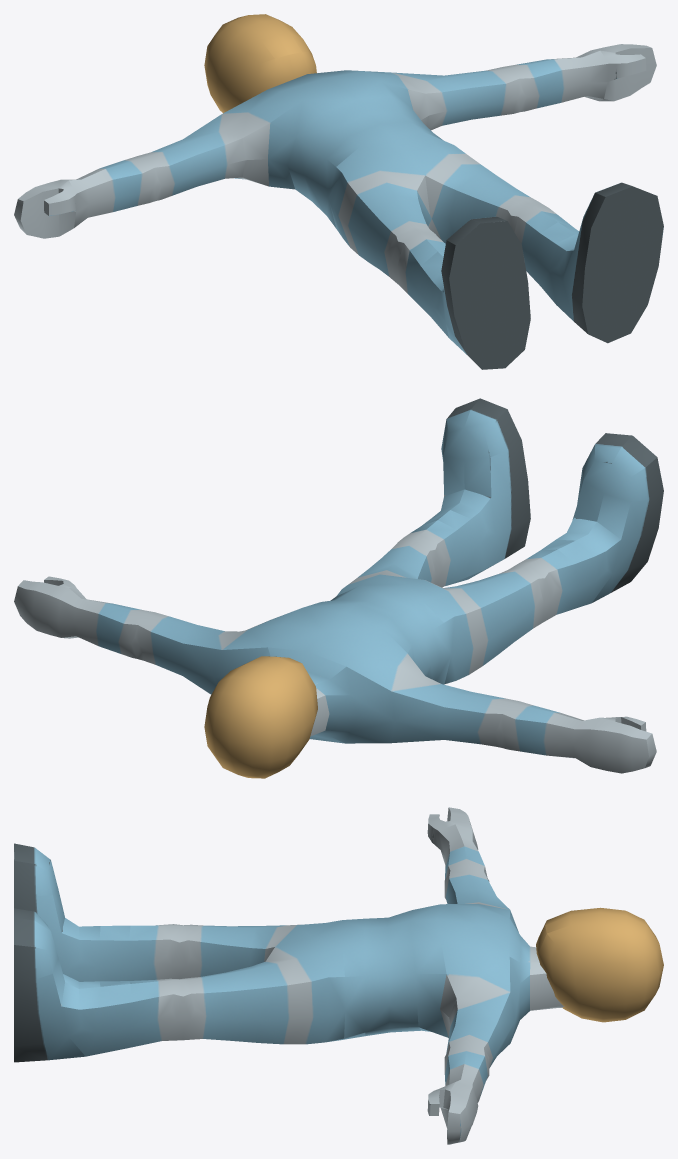
Rendered from omnidude.glb.
3 views of the same model, one above another, from view 1: azimuth 30°, elevation 25°; view 2: azimuth 150°, elevation 25°; view 3: azimuth 270°, elevation 25° (orthographic).
Parts seen in each view (by area): view 1: Omnidude, HumanBase; view 2: Omnidude, HumanBase; view 3: Omnidude, HumanBase.
Part boxes in pixels (x1,y1,x2,y2): Omnidude: [14, 44, 663, 369]; HumanBase: [204, 14, 316, 113]; Omnidude: [14, 398, 663, 773]; HumanBase: [204, 656, 317, 778]; Omnidude: [14, 807, 563, 1144]; HumanBase: [536, 907, 663, 1022].
Bounding box in the file's own units: 98.38 × 22.31 × 87.57.
Materials: 1 (1 with a texture image).
